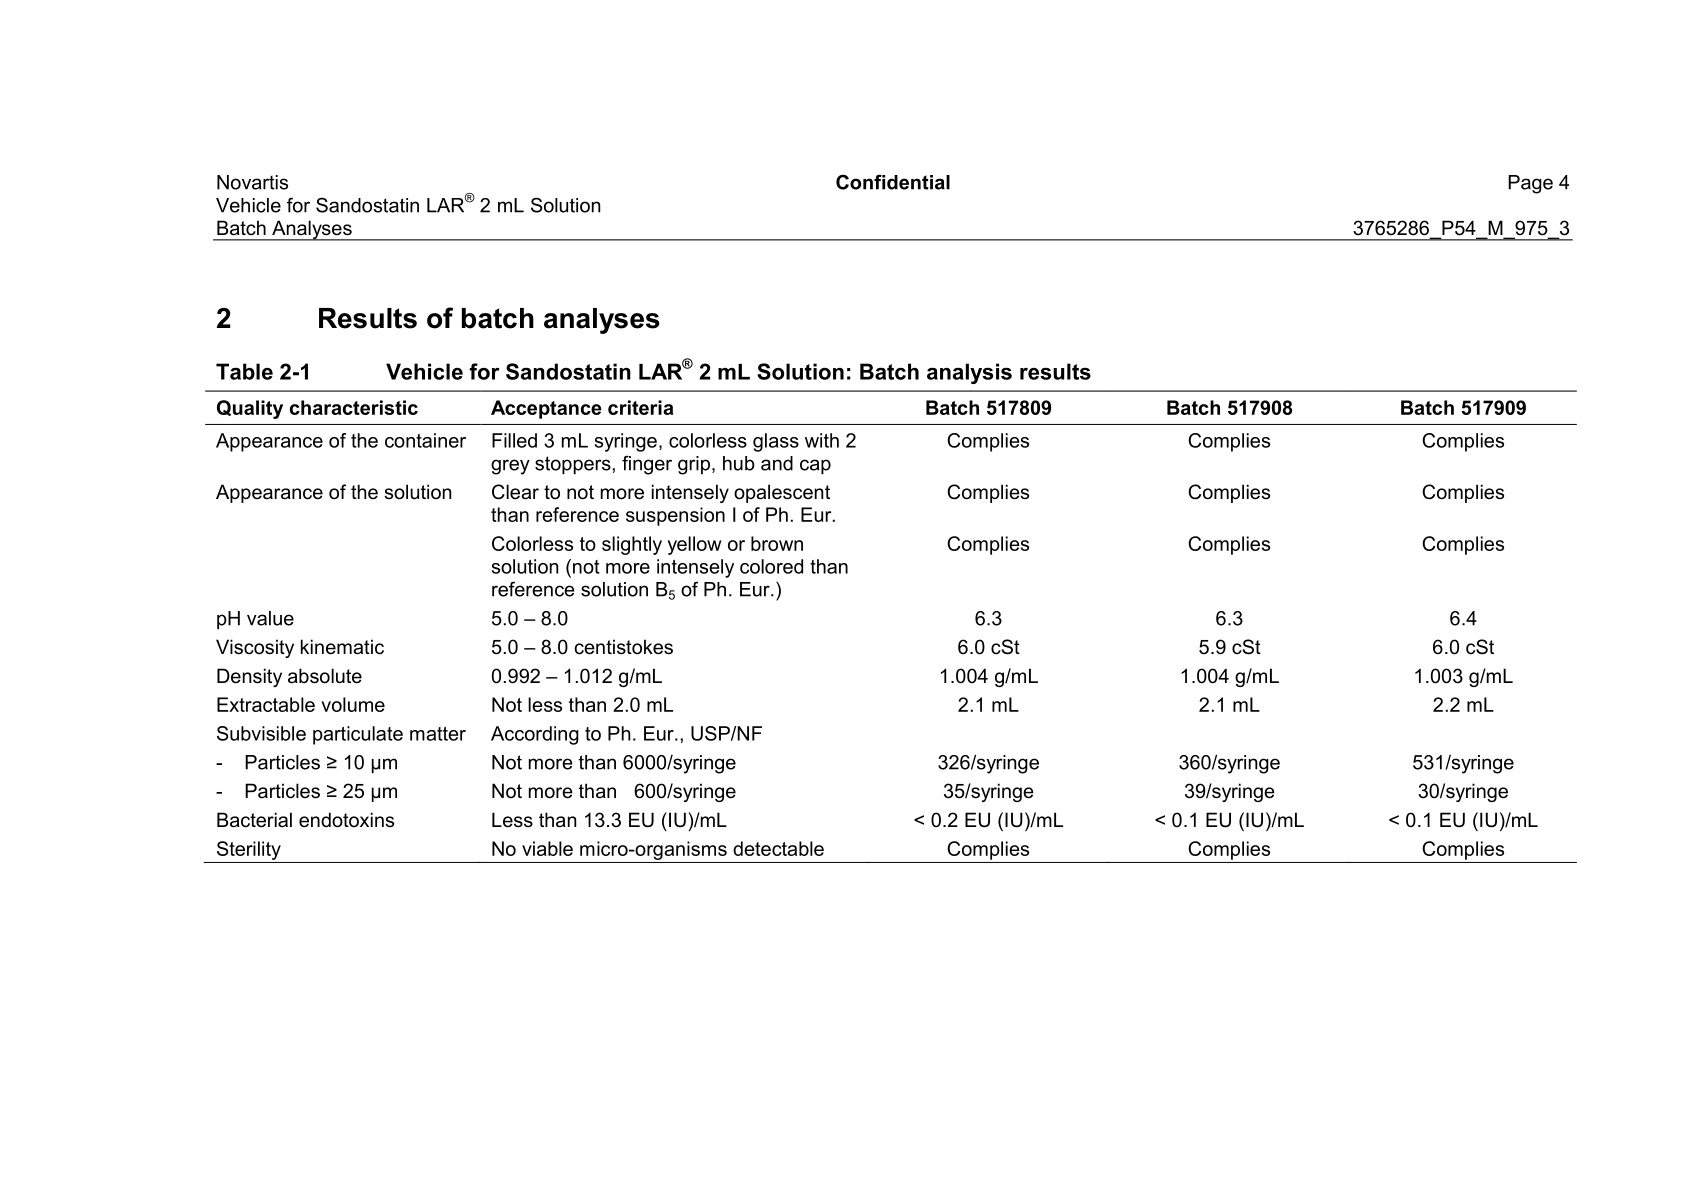partial_lined: (204, 389, 1578, 864)
